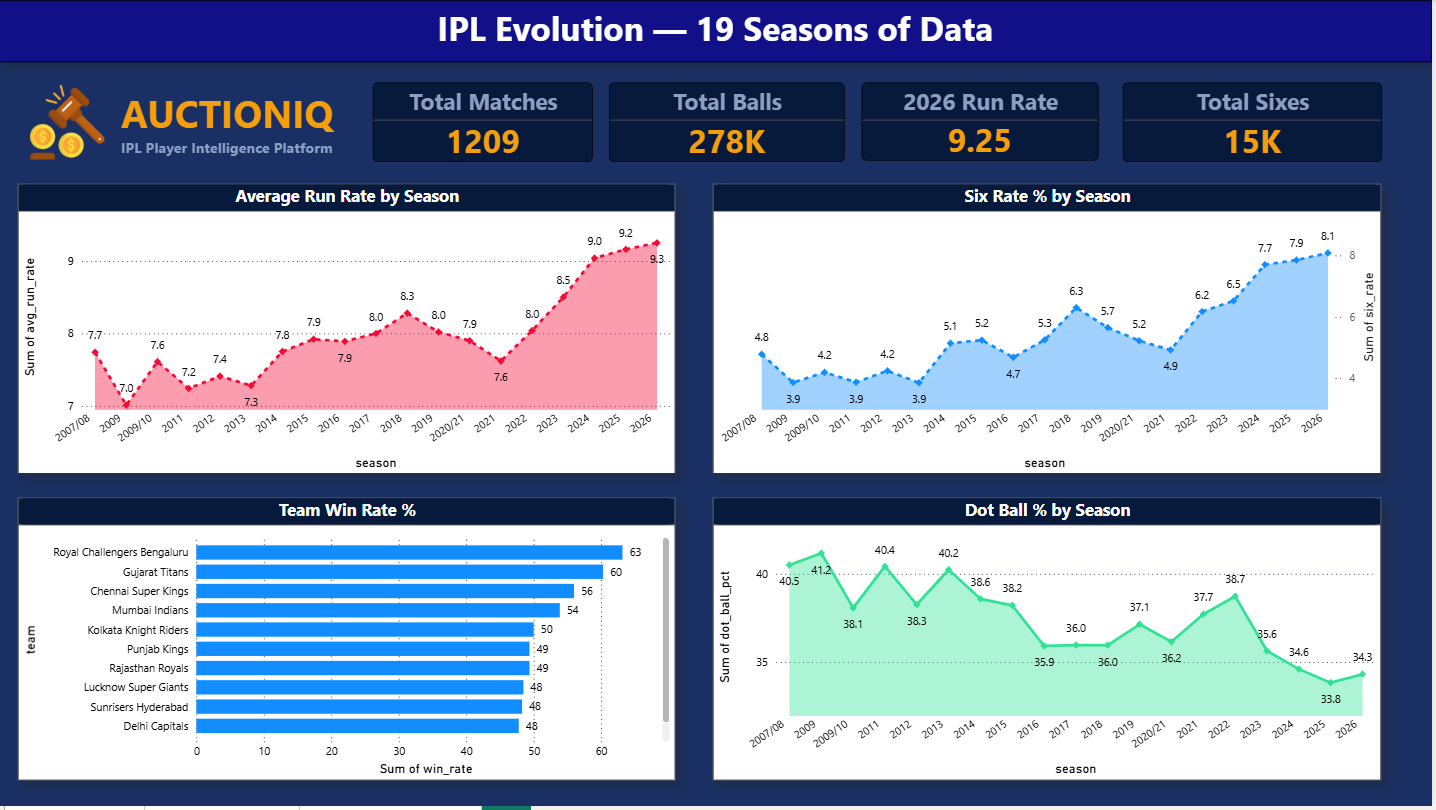

The dashboard page shown, as its layout file describes it:
{"tool":"powerbi","page":{"name":"Page 1","canvas":[1600,900],"ordinal":0},"visuals":[{"type":"textbox","box":[130.4,58.3,257.3,114.9],"z":0},{"type":"textbox","box":[387.7,0,874.8,101.2],"z":1},{"type":"card","title":"Total Matches","fields":{"Values":["Mea.Total Matches"]},"box":[418.5,85.8,245.3,109.8],"z":2},{"type":"card","title":"Total Balls","fields":{"Values":["Mea.Total Balls"]},"box":[686.1,84,264.2,111.5],"z":3},{"type":"card","title":"2026 Run Rate","fields":{"Values":["Mea.Latest Run Rate"]},"box":[979.4,85.8,264.2,109.8],"z":4},{"type":"card","title":"Total Sixes","fields":{"Values":["Mea.Total Sixes"]},"box":[1262.4,85.8,289.9,111.5],"z":5},{"type":"lineChart","title":"Average Run Rate by Season","fields":{"Y":["Sum(season_trends.avg_run_rate)"],"Category":["season_trends.season"]},"box":[20.6,221.3,734.1,320.8],"z":6},{"type":"lineChart","title":"Six Rate % by Season","fields":{"Category":["season_trends.season"],"Y2":["Sum(season_trends.six_rate)"]},"box":[797.6,221.3,746.1,308.7],"z":7},{"type":"clusteredBarChart","title":"Team Win Rate %","fields":{"Category":["team_stats.team"],"Y":["Sum(team_stats.win_rate)"]},"box":[21,575,734,297],"z":8},{"type":"lineChart","title":"Dot Ball % by Season","fields":{"Category":["season_trends.season"],"Y":["Sum(season_trends.dot_ball_pct)"]},"box":[797.6,555.7,746.1,315.6],"z":9},{"type":"image","box":[20.6,60,109.8,82.3],"z":10}]}

Visuals, with their boxes in screenshot pixels (x1, y1, x2, y2), scaled from the page's 1600x900 canvas onto the 1436x810 screenshot:
textbox: 117, 52, 348, 156
textbox: 348, 0, 1133, 91
"Total Matches" card: 376, 77, 596, 176
"Total Balls" card: 616, 76, 853, 176
"2026 Run Rate" card: 879, 77, 1116, 176
"Total Sixes" card: 1133, 77, 1393, 178
"Average Run Rate by Season" lineChart: 18, 199, 677, 488
"Six Rate % by Season" lineChart: 716, 199, 1385, 477
"Team Win Rate %" clusteredBarChart: 19, 518, 678, 785
"Dot Ball % by Season" lineChart: 716, 500, 1385, 784
image: 18, 54, 117, 128
